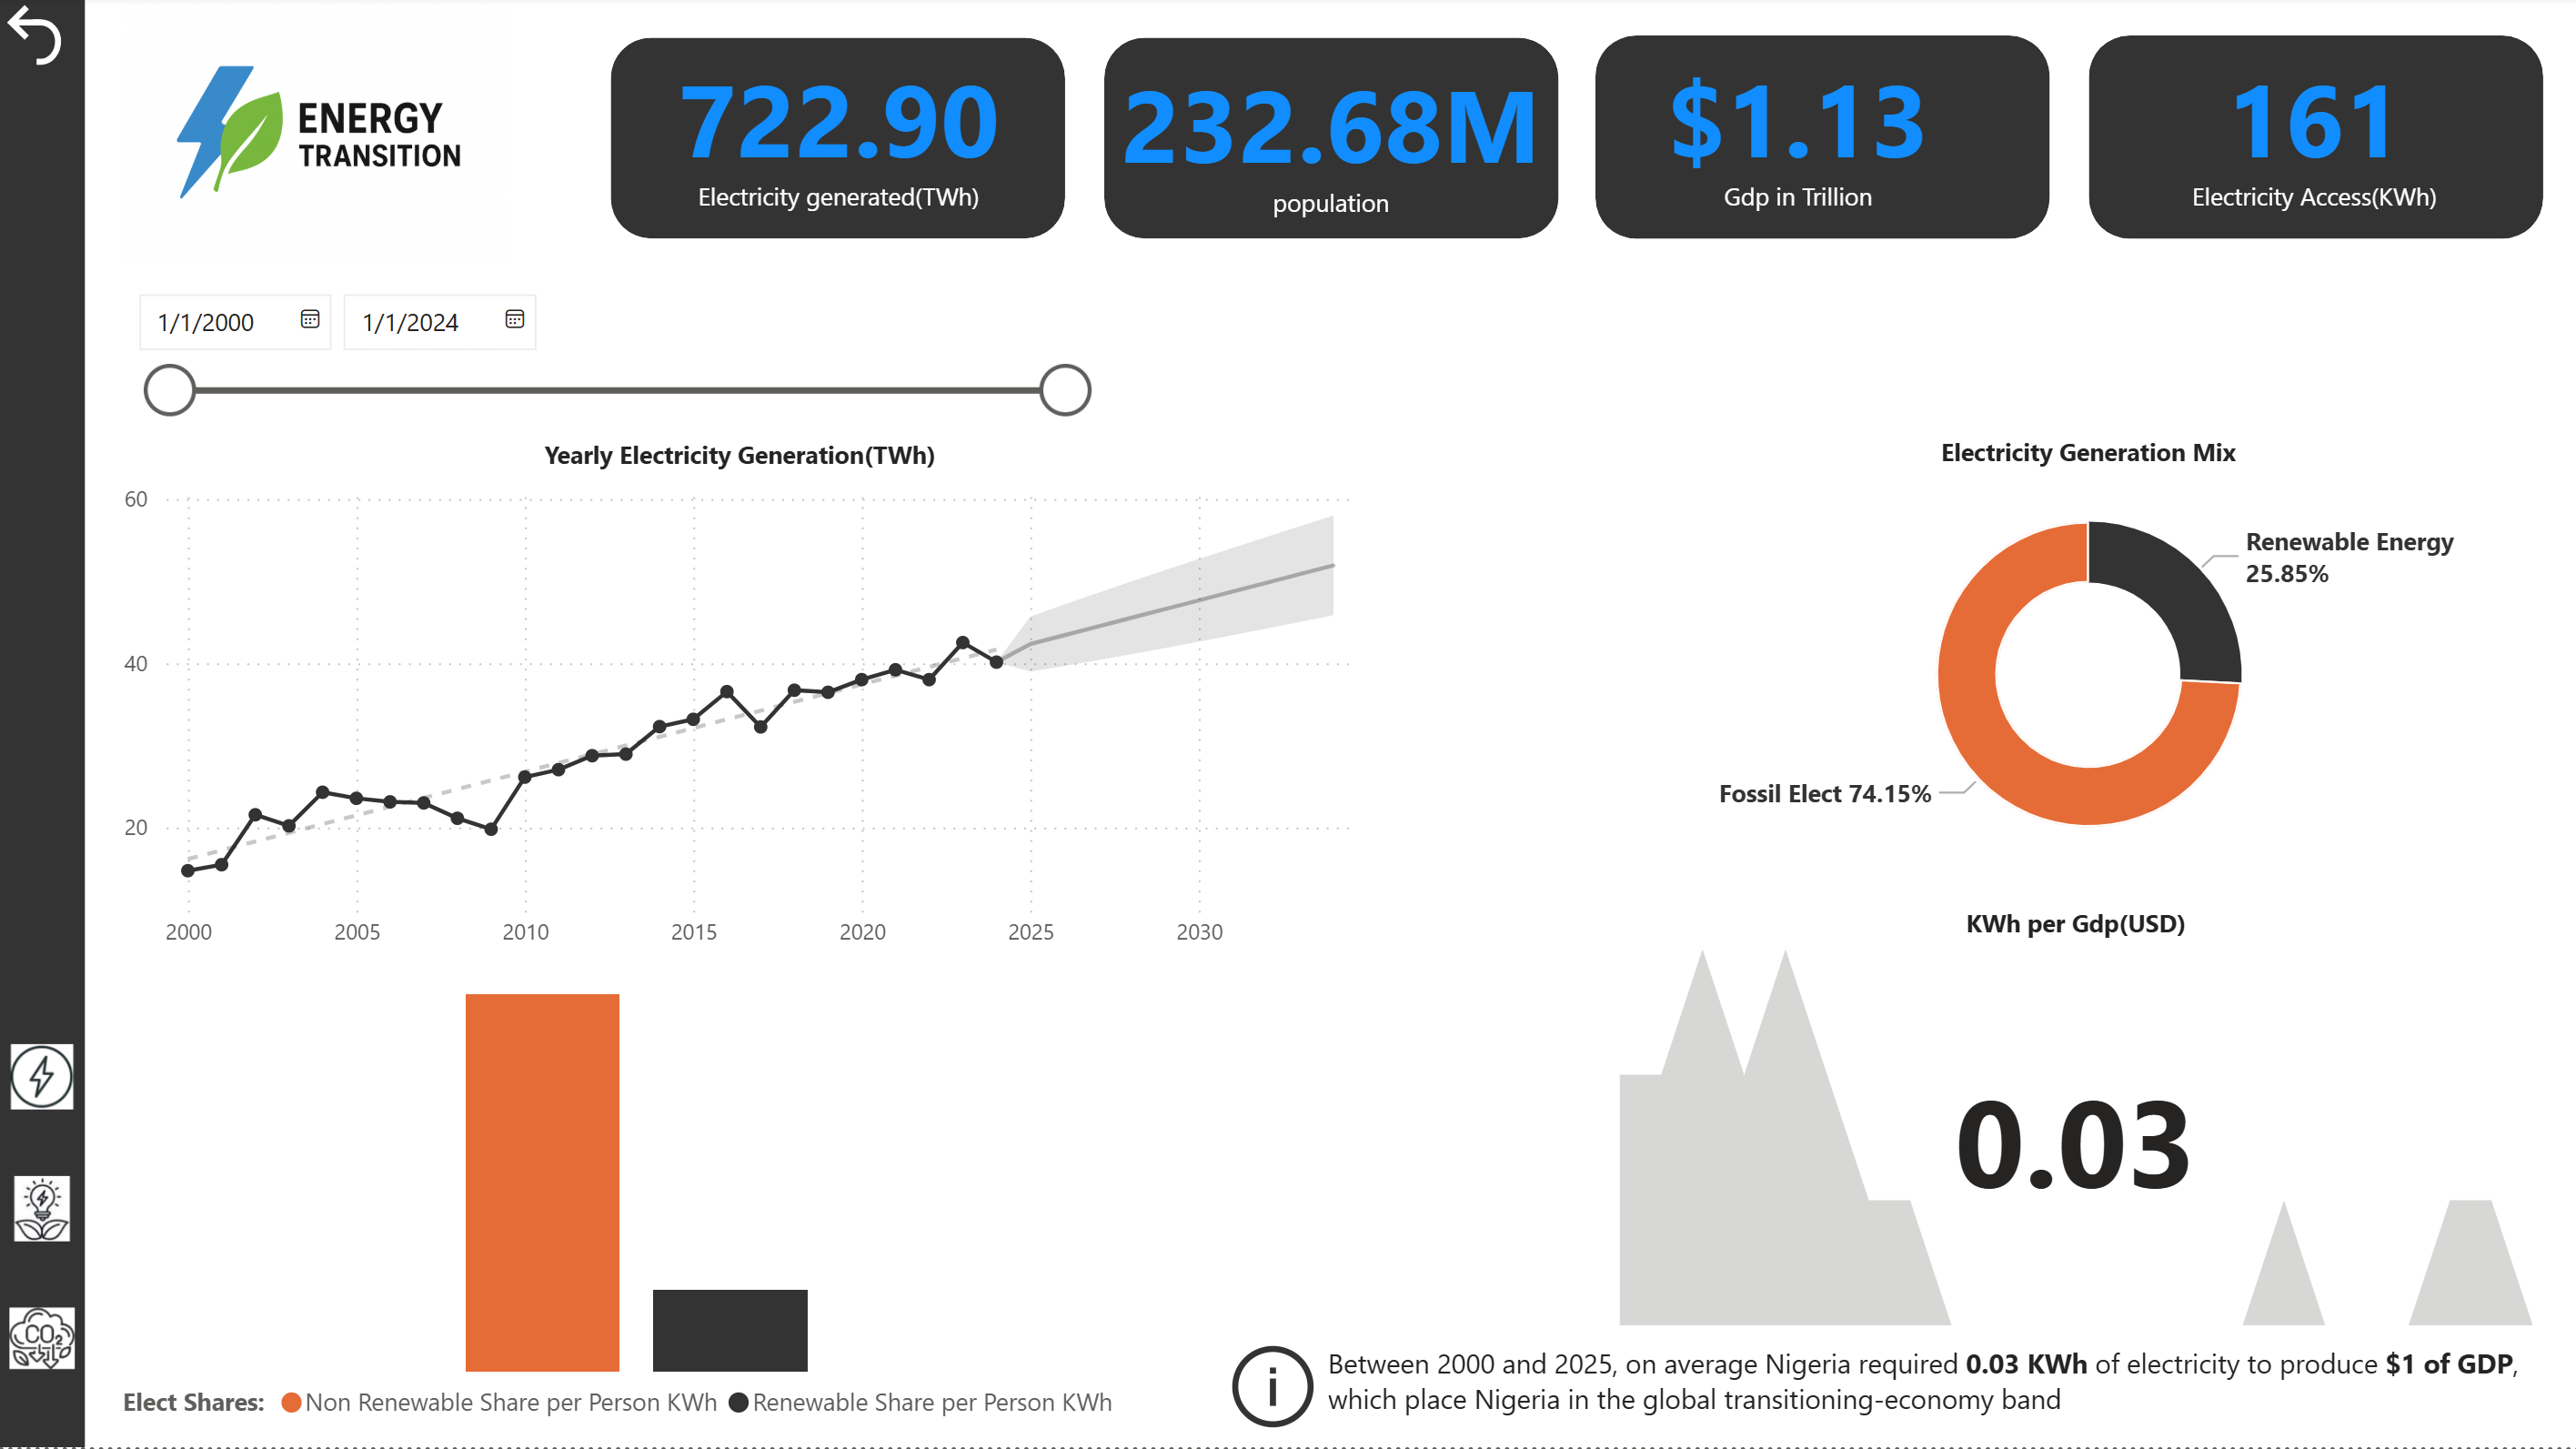

Layout of this report page (visuals, bound fields, positions):
{"tool":"powerbi","page":{"name":"Nig Energy Profile","canvas":[1280,720],"ordinal":0},"visuals":[{"type":"card","title":"Elect Gen Card","fields":{"Values":["Measure Table.Total electricity generation(twh)"]},"box":[292.3,0,252.5,134.3],"z":0,"group":"g3"},{"type":"shape","box":[306,20.5,225.2,99.5],"z":0,"group":"g2"},{"type":"actionButton","box":[3.6,516.5,44.7,40.4],"z":0,"group":"g1"},{"type":"shape","title":"Left Nav Background","box":[0,0,44.8,720.3],"z":1000},{"type":"card","title":"Population Card","fields":{"Values":["Sum(v_combined_country_profile.population)"]},"box":[536.1,2.5,253.8,135.6],"z":1000,"group":"g3"},{"type":"actionButton","box":[3.6,581.4,44.7,40.4],"z":1000,"group":"g1"},{"type":"card","title":"GDP Card","fields":{"Values":["Sum(v_combined_country_profile.gdp_trillion_usd)"]},"box":[767.5,0,252.5,134.3],"z":2000,"group":"g3"},{"type":"shape","box":[550.2,20.5,225.2,99.5],"z":2000,"group":"g2"},{"type":"actionButton","box":[3.6,646.3,44.7,40.4],"z":2000,"group":"g1"},{"type":"image","title":"Energy Logo","box":[44.8,0,228.9,138.1],"z":3000},{"type":"card","title":"Electricity Access Card","fields":{"Values":["Measure Table.Avg Elec Access"]},"box":[1023.7,0,252.5,134.3],"z":3000,"group":"g3"},{"type":"shape","box":[794.4,19.9,225.2,100.8],"z":4000,"group":"g2"},{"type":"shape","box":[1038.6,19.9,225.2,100.8],"z":5000,"group":"g2"},{"type":"lineChart","title":"Yearly Electricity Generation(TWh)","fields":{"Category":["dim_year.year_date"],"Y":["Measure Table.Total electricity generation(twh)"]},"box":[59.2,219.3,621.8,262.6],"z":6000},{"type":"donutChart","title":"Electricity Generation Mix","fields":{"Y":["Measure Table.Avg Renewable Share Elec","Measure Table.Avg fossil Share Elec"]},"box":[799.9,218.9,475.2,220.2],"z":7000},{"type":"clusteredColumnChart","title":"Non Renewable Share per Person VS Renewable Share per Person","fields":{"Y":["Measure Table.Non Renewable Share per Person","Measure Table.Renewable Share per Person"]},"box":[58.5,481.4,518.7,235.1],"z":8000},{"type":"kpi","title":"KWh per Gdp(USD)","fields":{"TrendLine":["dim_year.year_date"],"Indicator":["Measure Table.Kwh per Gdp(USD)"]},"box":[799.9,451.6,462.8,212.7],"z":9000},{"type":"textbox","box":[655.6,664.3,624.5,56],"z":10000},{"type":"slicer","fields":{"Values":["dim_year.year_date"]},"box":[59.2,138.5,493.4,80.8],"z":11000},{"type":"actionButton","title":"Back Button","box":[0,0,44.8,39.8],"z":12000},{"type":"actionButton","title":"Info Button","box":[607.1,664.3,52.2,52.2],"z":13000},{"type":"group","id":"g1","title":"Nav Buttons","box":[3.6,516.5,44.7,170.2],"z":14000},{"type":"group","id":"g2","title":"KPI Cards","box":[306,19.9,957.8,100.8],"z":15001,"group":"g4"},{"type":"group","id":"g3","title":"KPI Values","box":[292.3,0,984,138.1],"z":15501,"group":"g4"},{"type":"group","id":"g4","title":"KPIs","box":[292.3,0,984,138.1],"z":15502}]}

Visuals, with their boxes on the page's 1280x720 design canvas (x1, y1, x2, y2). These are canvas units, not pixel positions in the 2576x1449 screenshot, which may show the page scaled, cropped or inside an application window:
"Elect Gen Card" card: select_region(292, 0, 545, 134)
shape: select_region(306, 20, 531, 120)
actionButton: select_region(4, 516, 48, 557)
"Left Nav Background" shape: select_region(0, 0, 45, 720)
"Population Card" card: select_region(536, 2, 790, 138)
actionButton: select_region(4, 581, 48, 622)
"GDP Card" card: select_region(768, 0, 1020, 134)
shape: select_region(550, 20, 775, 120)
actionButton: select_region(4, 646, 48, 687)
"Energy Logo" image: select_region(45, 0, 274, 138)
"Electricity Access Card" card: select_region(1024, 0, 1276, 134)
shape: select_region(794, 20, 1020, 121)
shape: select_region(1039, 20, 1264, 121)
"Yearly Electricity Generation(TWh)" lineChart: select_region(59, 219, 681, 482)
"Electricity Generation Mix" donutChart: select_region(800, 219, 1275, 439)
"Non Renewable Share per Person VS Renewable Share per Person" clusteredColumnChart: select_region(58, 481, 577, 716)
"KWh per Gdp(USD)" kpi: select_region(800, 452, 1263, 664)
textbox: select_region(656, 664, 1280, 720)
slicer - dim_year.year_date: select_region(59, 138, 553, 219)
"Back Button" actionButton: select_region(0, 0, 45, 40)
"Info Button" actionButton: select_region(607, 664, 659, 716)
"Nav Buttons" group: select_region(4, 516, 48, 687)
"KPI Cards" group: select_region(306, 20, 1264, 121)
"KPI Values" group: select_region(292, 0, 1276, 138)
"KPIs" group: select_region(292, 0, 1276, 138)
